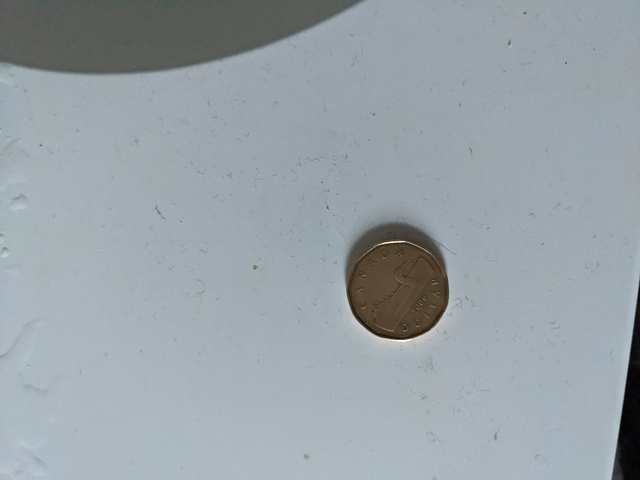loonie: (339, 229, 463, 346)
